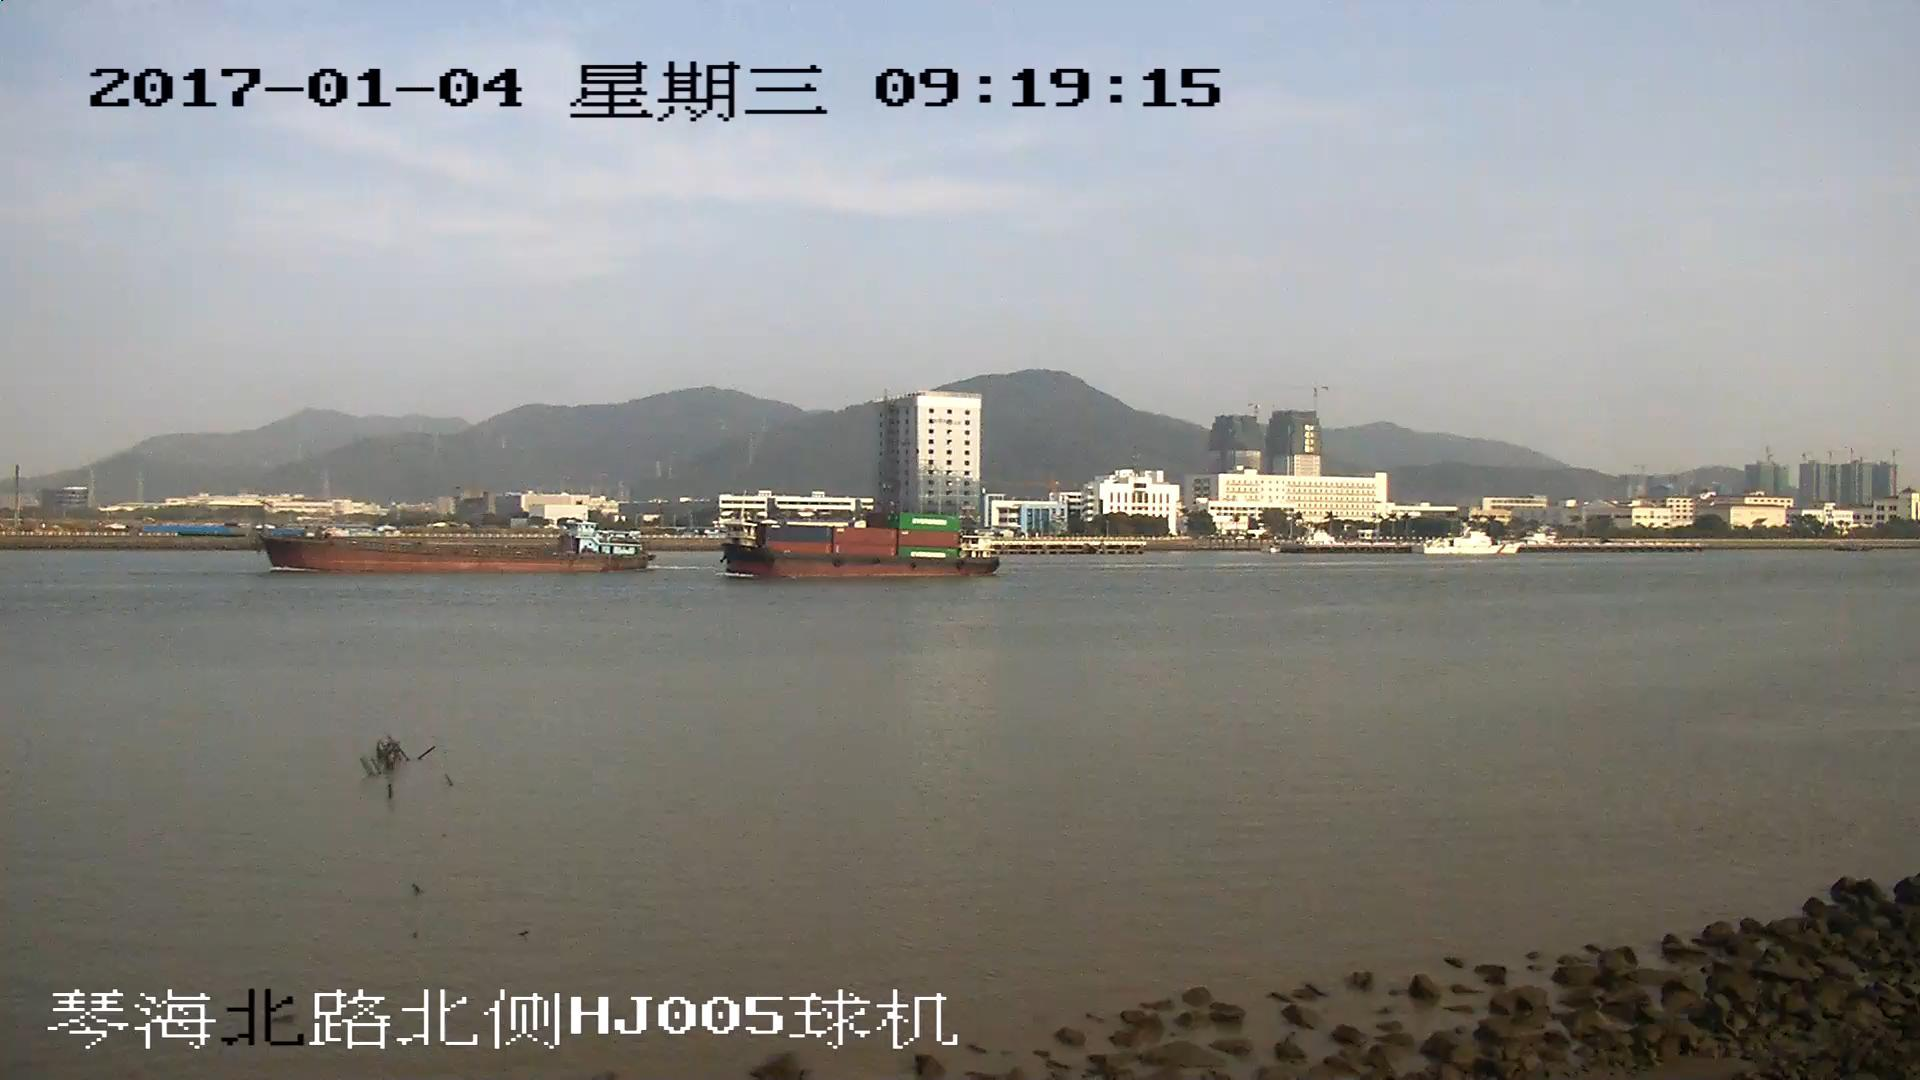Ship: (258, 516, 657, 574), (723, 509, 1004, 578)
